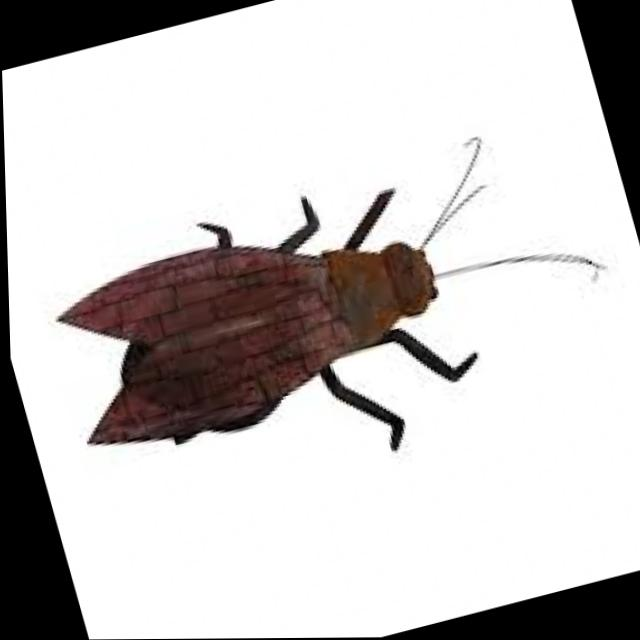Cockroach: (6, 117, 635, 499)
